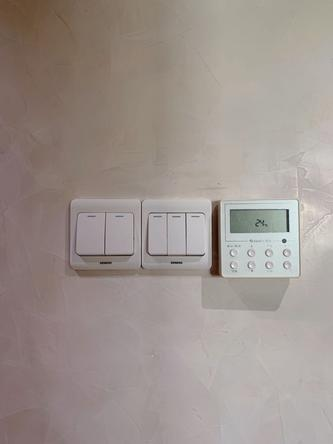switch: (74, 208, 105, 258), (105, 208, 134, 259), (185, 210, 208, 259), (146, 211, 168, 258), (168, 211, 187, 258)
